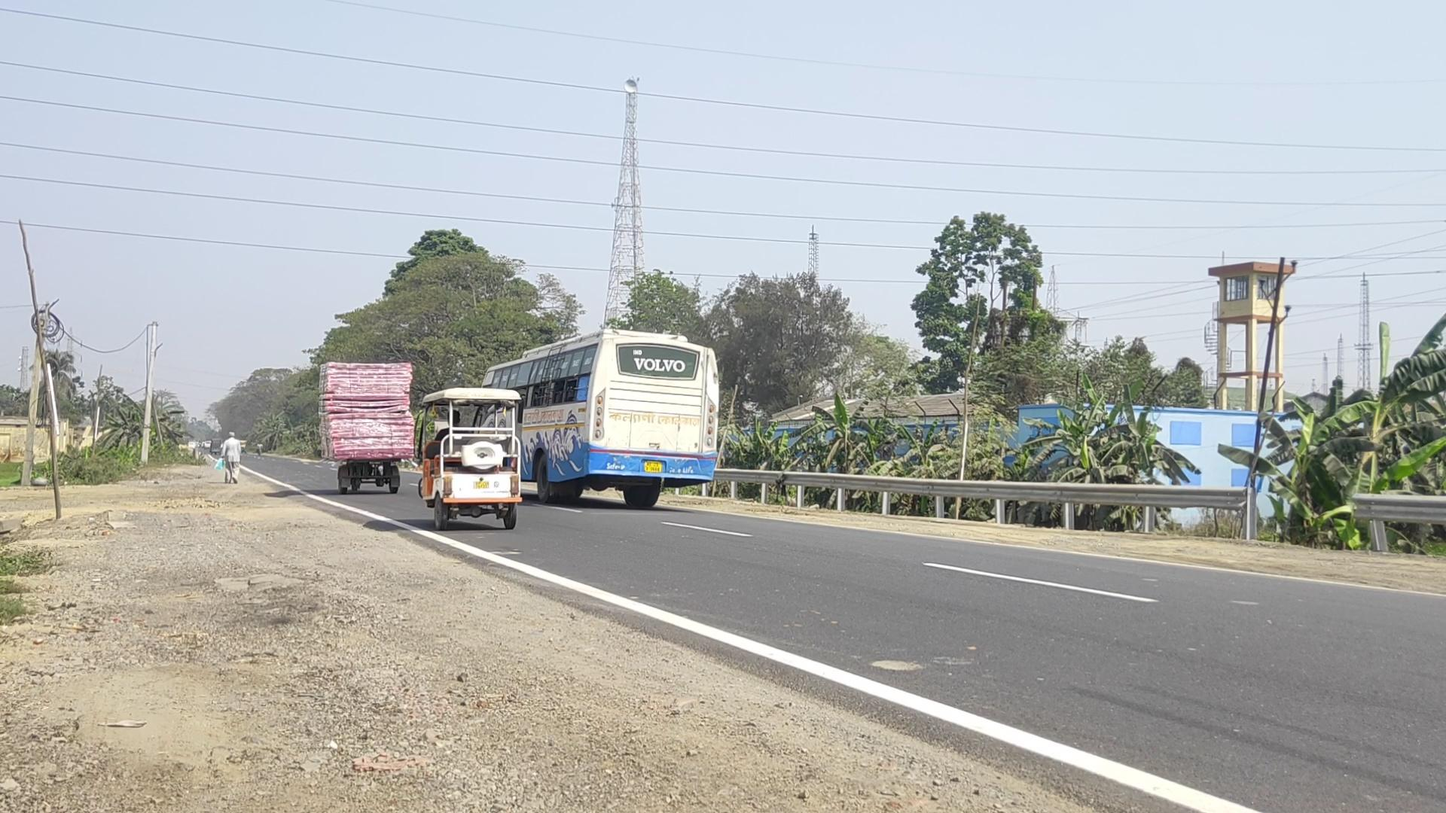Auto: (413, 388, 522, 529)
Bus: (475, 329, 718, 509)
